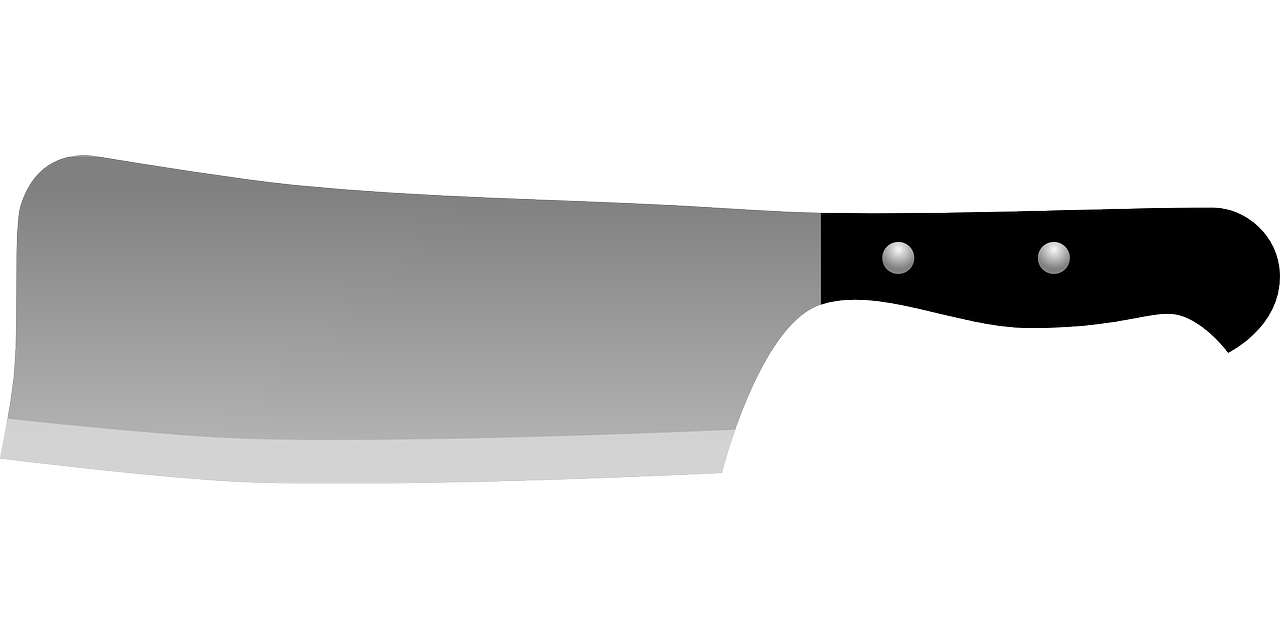knife: (4, 140, 1280, 469)
